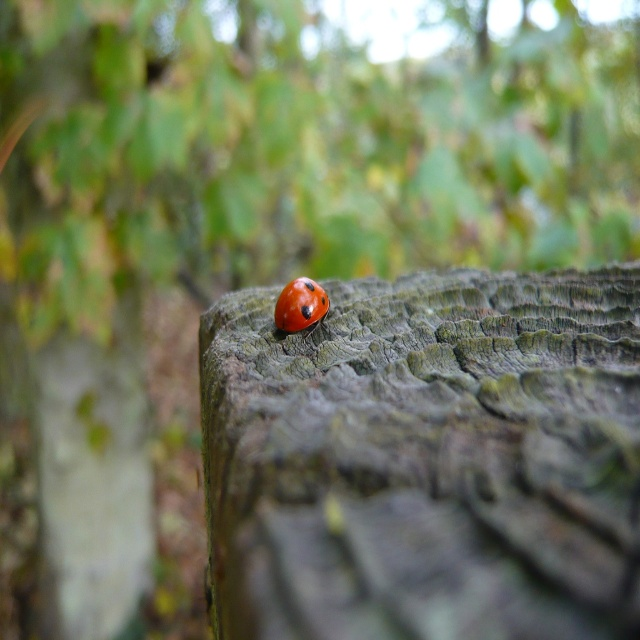Ladybug: (274, 276, 328, 333)
